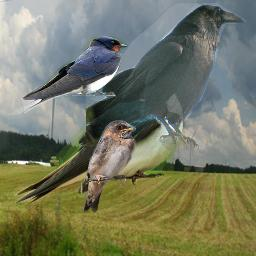Crow: (86, 3, 246, 150)
Swallow: (13, 69, 185, 205), (9, 36, 128, 119), (77, 120, 136, 213)
